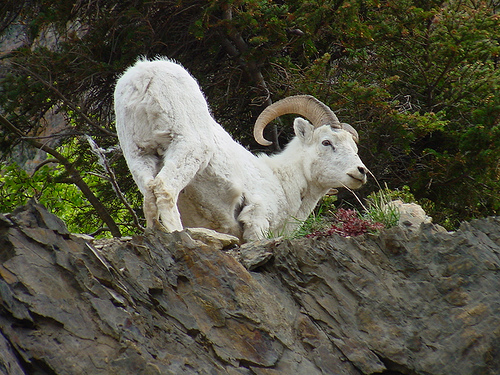goat: (112, 56, 369, 246)
